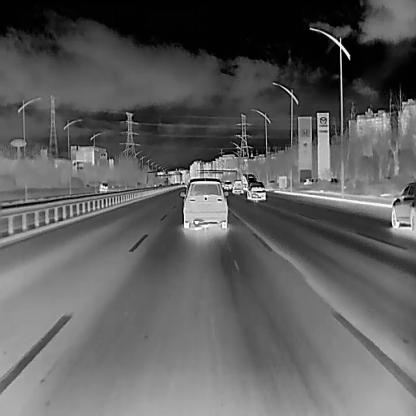car: (180, 177, 228, 228), (389, 180, 415, 230), (246, 180, 266, 201), (231, 180, 244, 194), (302, 174, 318, 184), (224, 180, 232, 190)
truck: (240, 172, 257, 188), (98, 181, 108, 191)
